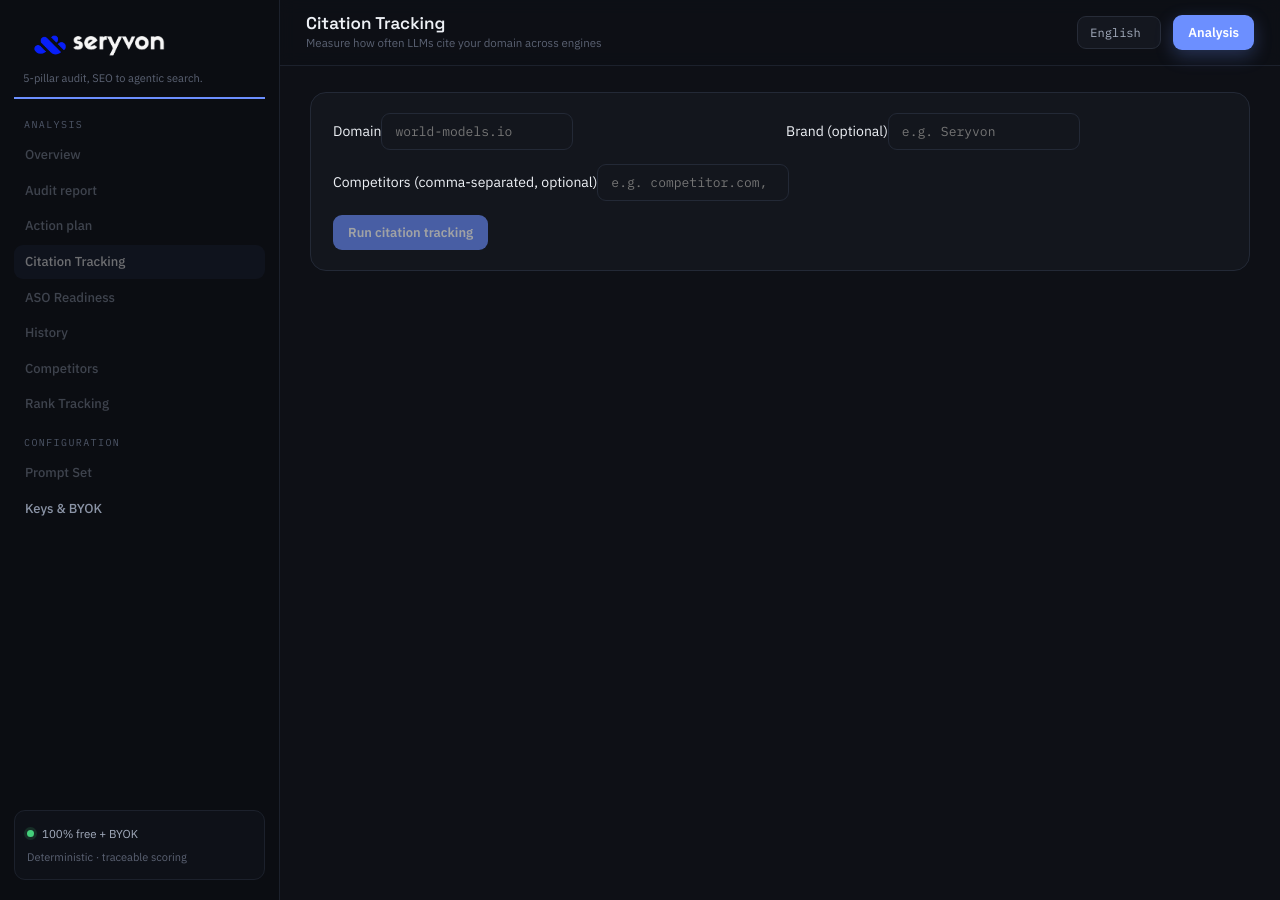
Test case: reports missing keys when a citation run is rejected
Type "example.com" into the field labelled "Domain" at (477, 132), box [381,113,573,150]
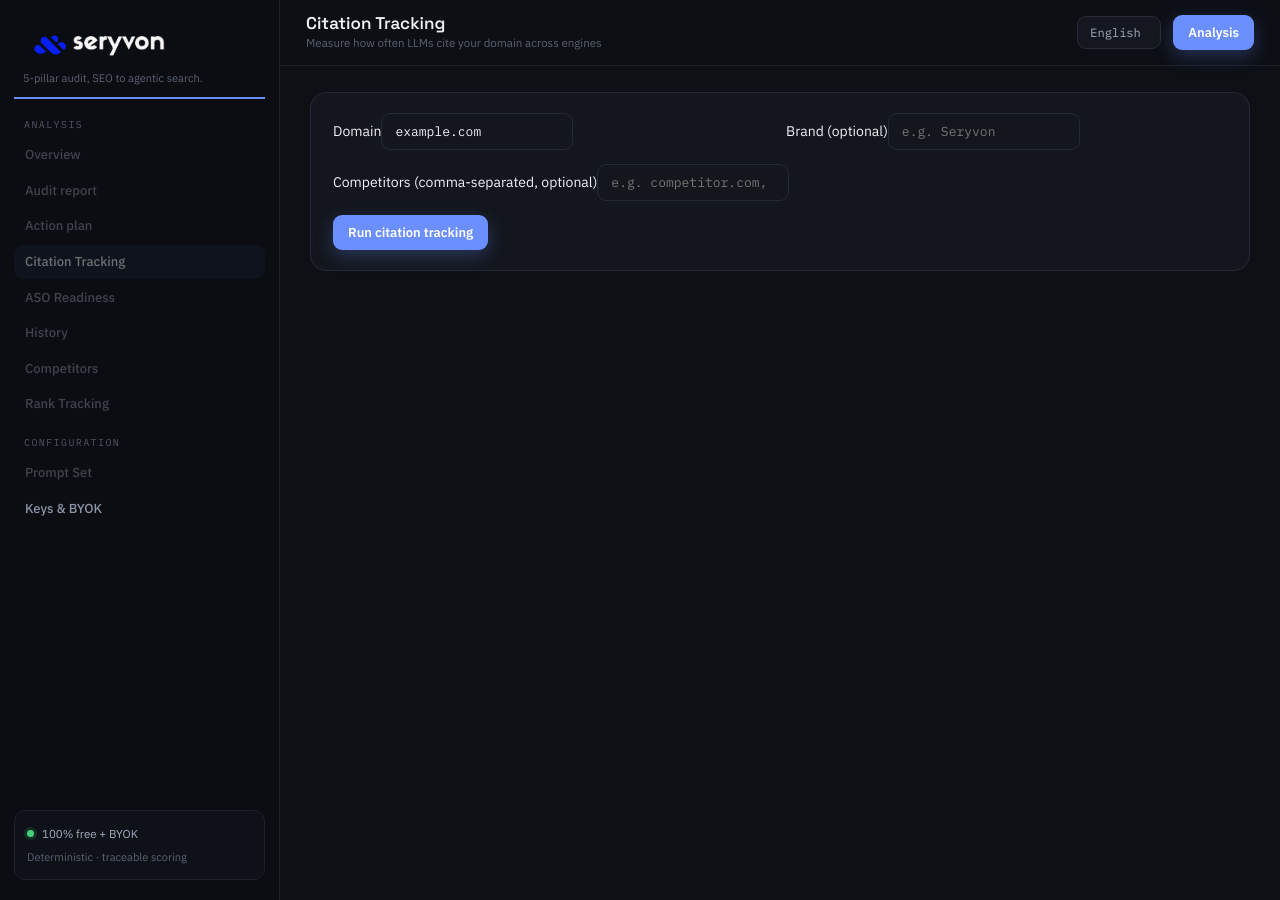
Click the button "Run citation tracking" at (411, 232), box [333,215,488,250]
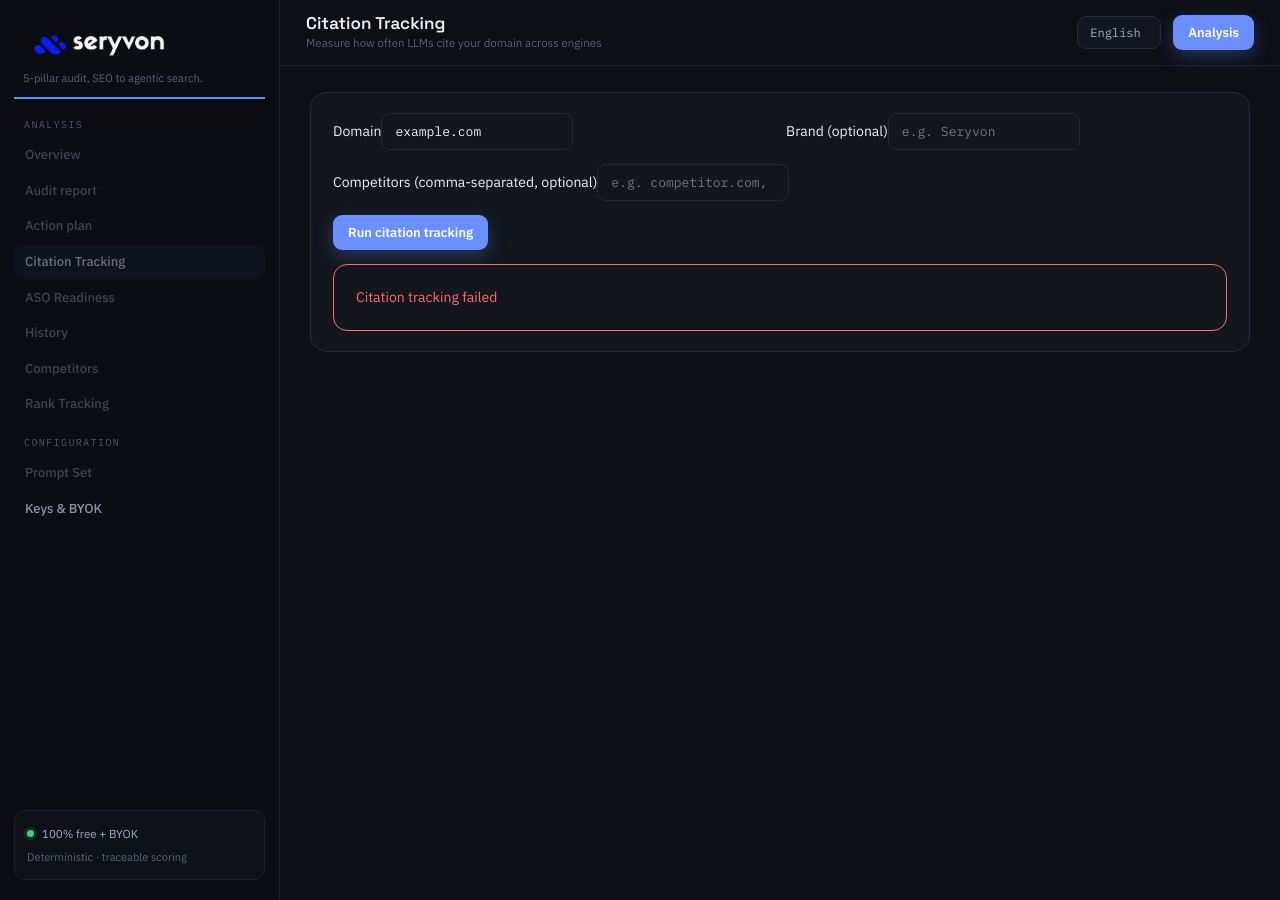
Result: the text "Citation tracking failed" is shown at [333,264,1227,331]
